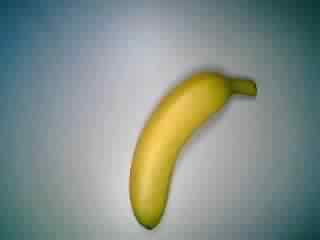banana: (125, 63, 259, 231)
